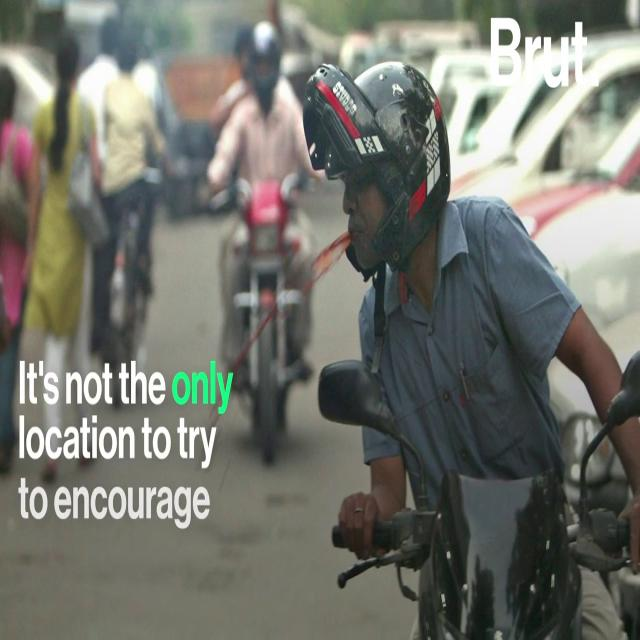spit: (227, 169, 393, 420)
